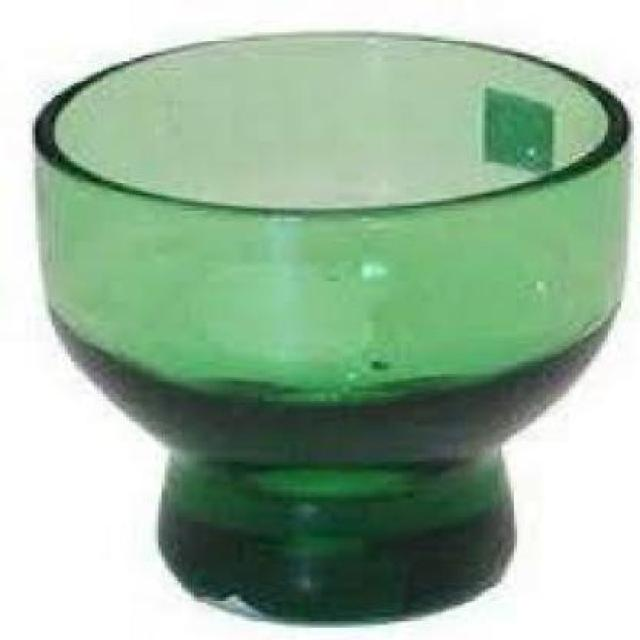kaca: (32, 28, 628, 623)
